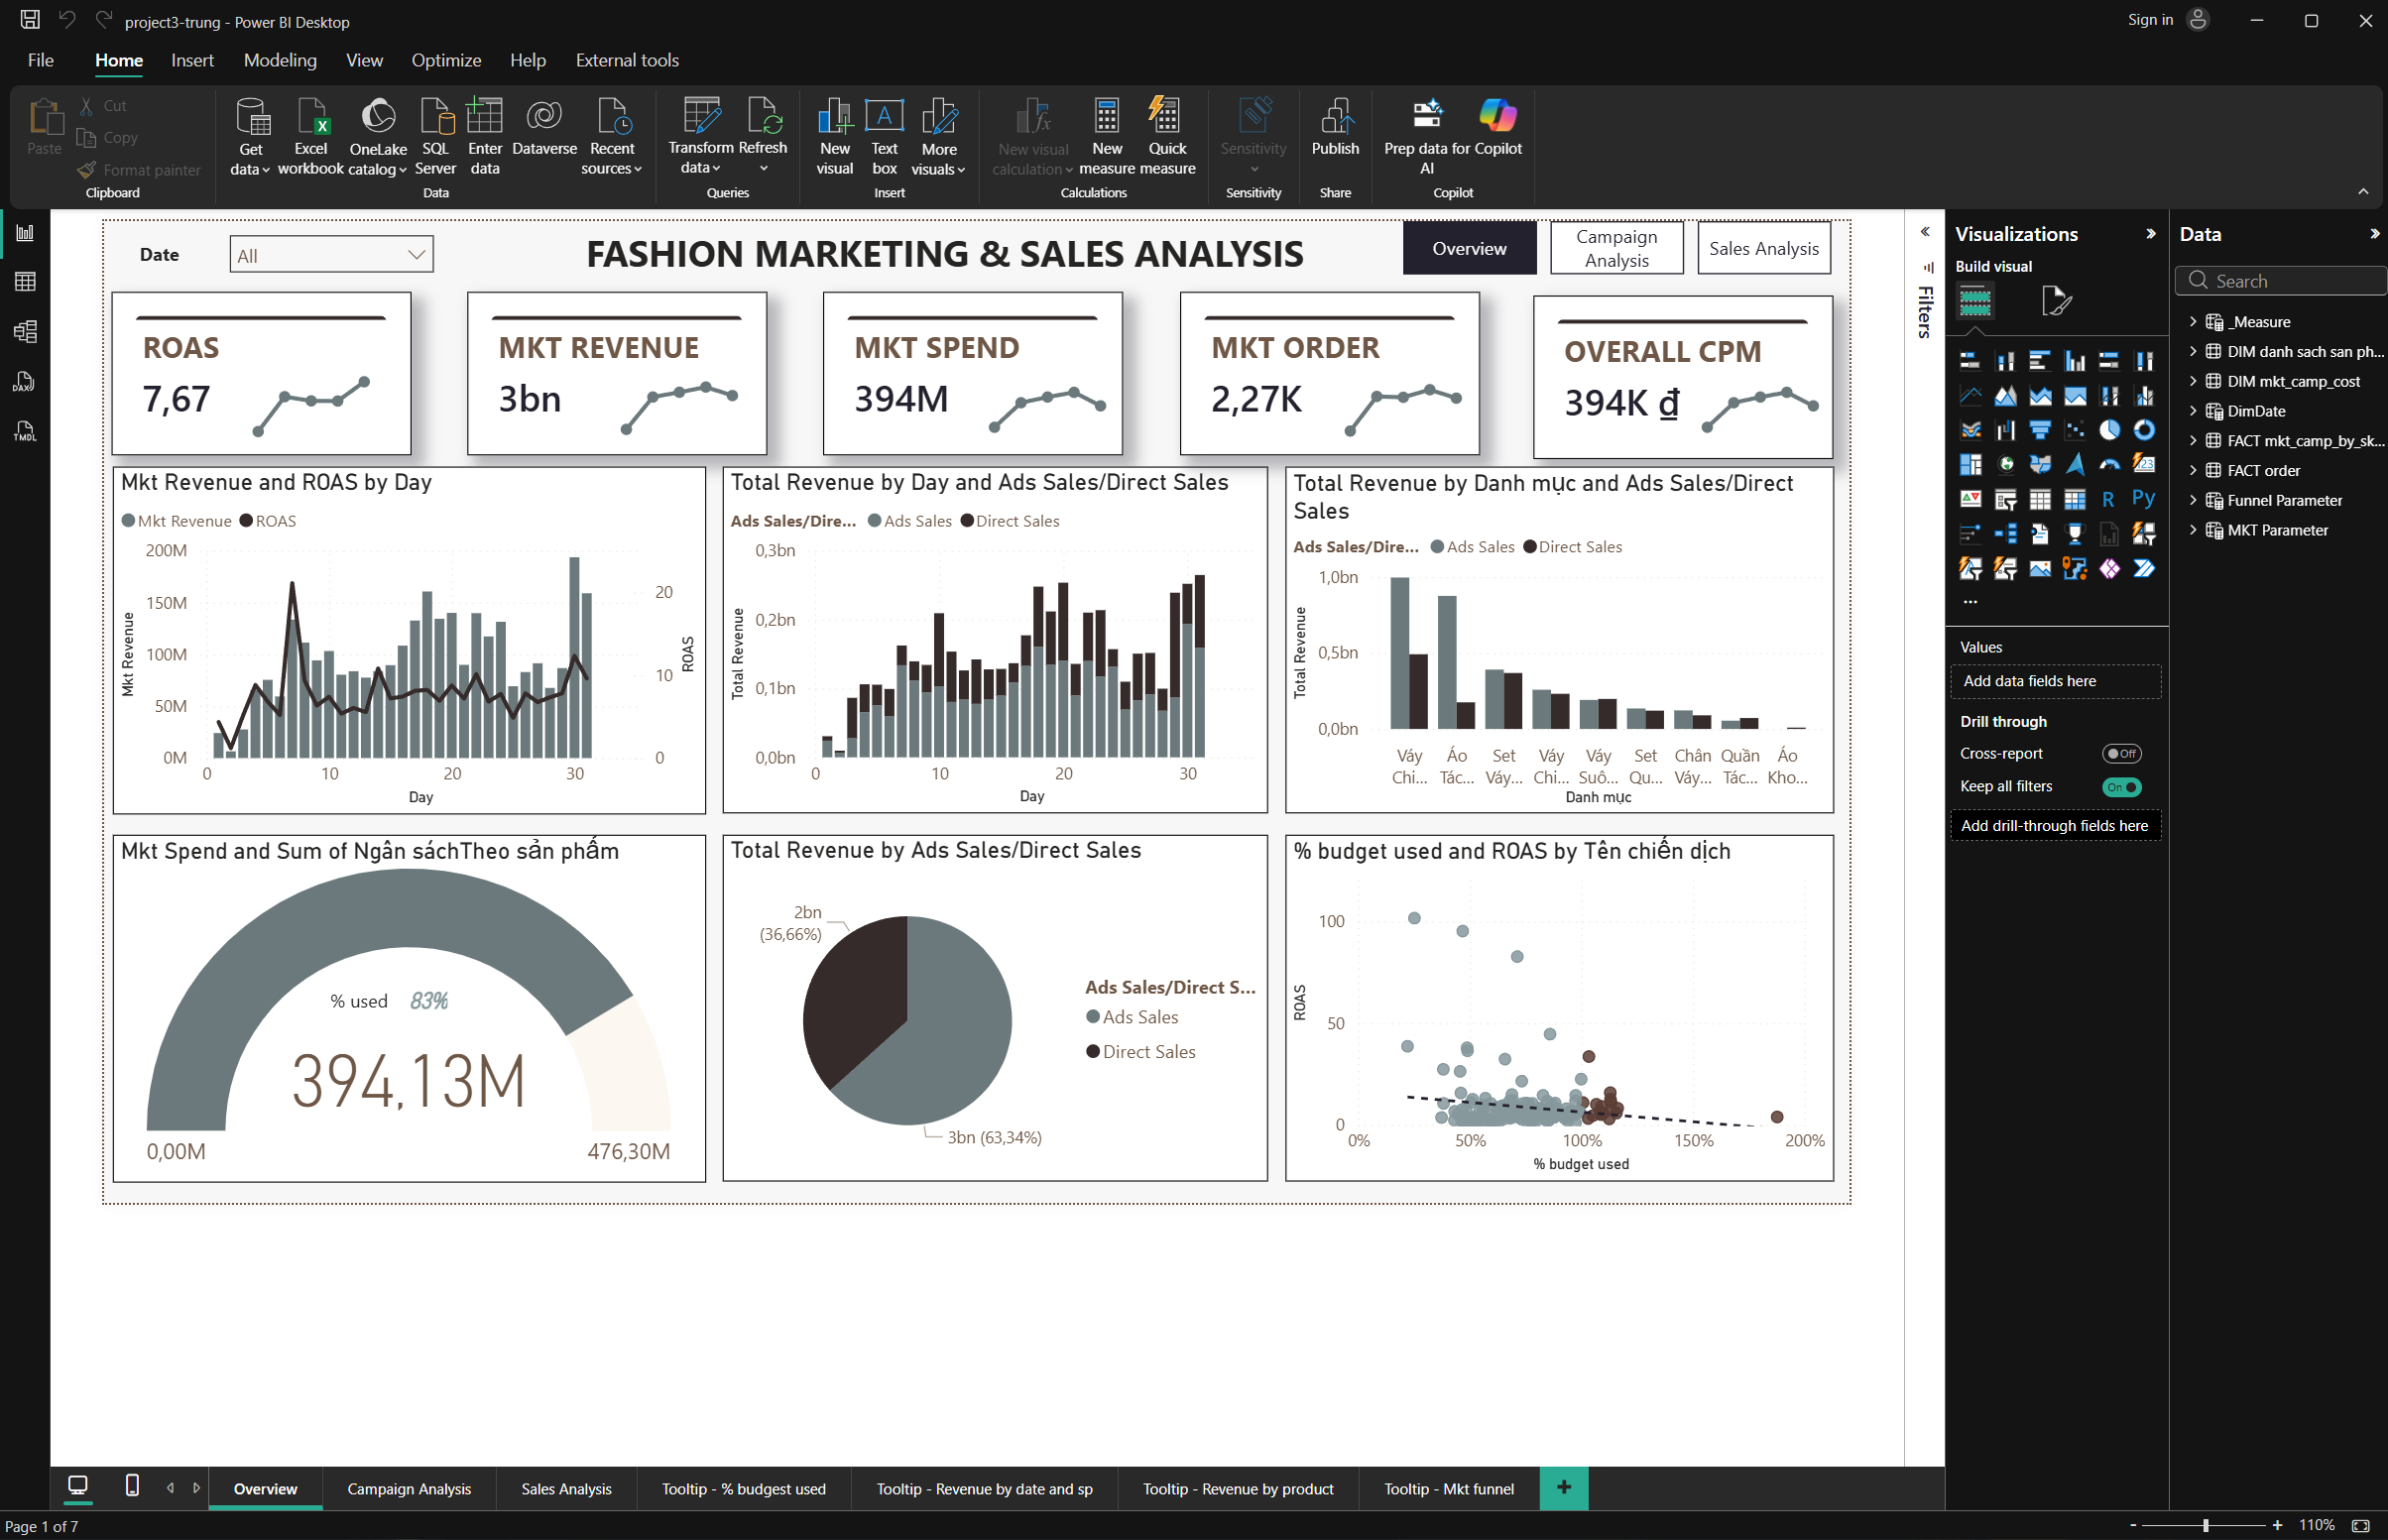

The dashboard page shown, as its layout file describes it:
{"tool":"powerbi","page":{"name":"Overview","canvas":[1280,720],"ordinal":0},"visuals":[{"type":"cardVisual","fields":{"Data":["_Measure.Total Revenue"]},"box":[266.3,52.3,220,120],"z":0},{"type":"cardVisual","fields":{"Data":["_Measure.Total Spend"]},"box":[527.6,52.3,220,120],"z":1000},{"type":"cardVisual","fields":{"Data":["_Measure.ROAS"]},"box":[5.1,52.3,220,120],"z":2000},{"type":"lineStackedColumnComboChart","fields":{"Y":["_Measure.Mkt Revenue"],"Y2":["_Measure.ROAS"],"Category":["DimDate.Date/Week Hierarchy.Day","DimDate.Date/Week Hierarchy.Week Number"]},"box":[6.2,180,435,255],"z":3000},{"type":"pieChart","fields":{"Y":["_Measure.Total Revenue"],"Category":["FACT order.Ads Sales/Direct Sales"]},"box":[453.3,450,400,254.4],"z":4000},{"type":"lineStackedColumnComboChart","fields":{"Y":["_Measure.Total Revenue"],"Category":["DimDate.Date/Week Hierarchy.Day","DimDate.Date/Week Hierarchy.Week Number"],"Series":["FACT order.Ads Sales/Direct Sales"]},"box":[453.3,180,400,254.4],"z":5000},{"type":"gauge","fields":{"Y":["_Measure.Mkt Spend"],"MaxValue":["Sum(FACT mkt_camp_by_sku_cost.Ngân sáchTheo sản phẩm)"]},"box":[6.2,450,435,255],"z":5000,"group":"g1"},{"type":"cardVisual","fields":{"Data":["_Measure.Mkt Order"]},"box":[788.8,52.3,220,120],"z":6000},{"type":"cardVisual","fields":{"Data":["_Measure.Total CPM"]},"box":[1047.8,54.4,220,120],"z":7000},{"type":"textbox","box":[348,0,586,52],"z":8000},{"type":"clusteredColumnChart","fields":{"Category":["DIM danh sach san pham.Danh mục","DIM danh sach san pham.Tên sản phẩm"],"Y":["_Measure.Total Revenue"],"Series":["FACT order.Ads Sales/Direct Sales"]},"box":[866.3,180.2,402.3,254.7],"z":9000},{"type":"scatterChart","fields":{"X":["_Measure.% budget used"],"Y":["_Measure.ROAS"],"Category":["DIM mkt_camp_cost.Tên chiến dịch"]},"box":[866,450,402,254],"z":10000},{"type":"group","id":"g1","title":"Group 1","box":[6.2,450,435,255],"z":11000},{"type":"lineChart","fields":{"Y":["_Measure.ROAS"],"Category":["DimDate.Date/Week Hierarchy.Week Number"]},"box":[97.8,100,107.8,64.4],"z":12000},{"type":"cardVisual","fields":{"Data":["_Measure.% budget used"]},"box":[185.3,544.9,105,65],"z":12501,"group":"g1"},{"type":"lineChart","fields":{"Category":["DimDate.Date/Week Hierarchy.Week Number"],"Y":["_Measure.Mkt Revenue"]},"box":[367.8,100,107.8,64.4],"z":13000},{"type":"lineChart","fields":{"Category":["DimDate.Date/Week Hierarchy.Week Number"],"Y":["_Measure.Mkt Spend"]},"box":[637.8,100,107.8,64.4],"z":14000},{"type":"lineChart","fields":{"Category":["DimDate.Date/Week Hierarchy.Week Number"],"Y":["_Measure.Mkt Order"]},"box":[898.9,100,107.8,64.4],"z":15000},{"type":"lineChart","fields":{"Category":["DimDate.Date/Week Hierarchy.Week Number"],"Y":["_Measure.Total CPM"]},"box":[1161.1,100,107.8,64.4],"z":16000},{"type":"pageNavigator","box":[953,0,316,39],"z":17000},{"type":"slicer","fields":{"Values":["DimDate.Date/Week Hierarchy.Day"]},"box":[82.1,0,170,50],"z":18000},{"type":"textbox","box":[21.2,10,76.2,28.8],"z":19000},{"type":"textbox","box":[160.3,557.4,60,45],"z":19001,"group":"g1"}]}

Visuals, with their boxes on the page's 1280x720 design canvas (x1, y1, x2, y2). These are canvas units, not pixel positions in the 2388x1540 screenshot, which may show the page scaled, cropped or inside an application window:
cardVisual - _Measure.Total Revenue: bbox(266, 52, 486, 172)
cardVisual - _Measure.Total Spend: bbox(528, 52, 748, 172)
cardVisual - _Measure.ROAS: bbox(5, 52, 225, 172)
lineStackedColumnComboChart - _Measure.Mkt Revenue x _Measure.ROAS: bbox(6, 180, 441, 435)
pieChart - _Measure.Total Revenue x FACT order.Ads Sales/Direct Sales: bbox(453, 450, 853, 704)
lineStackedColumnComboChart - _Measure.Total Revenue x DimDate.Date/Week Hierarchy.Day: bbox(453, 180, 853, 434)
gauge - _Measure.Mkt Spend x Sum(FACT mkt_camp_by_sku_cost.Ngân sáchTheo sản phẩm): bbox(6, 450, 441, 705)
cardVisual - _Measure.Mkt Order: bbox(789, 52, 1009, 172)
cardVisual - _Measure.Total CPM: bbox(1048, 54, 1268, 174)
textbox: bbox(348, 0, 934, 52)
clusteredColumnChart - DIM danh sach san pham.Danh mục x DIM danh sach san pham.Tên sản phẩm: bbox(866, 180, 1269, 435)
scatterChart - _Measure.% budget used x _Measure.ROAS: bbox(866, 450, 1268, 704)
"Group 1" group: bbox(6, 450, 441, 705)
lineChart - _Measure.ROAS x DimDate.Date/Week Hierarchy.Week Number: bbox(98, 100, 206, 164)
cardVisual - _Measure.% budget used: bbox(185, 545, 290, 610)
lineChart - DimDate.Date/Week Hierarchy.Week Number x _Measure.Mkt Revenue: bbox(368, 100, 476, 164)
lineChart - DimDate.Date/Week Hierarchy.Week Number x _Measure.Mkt Spend: bbox(638, 100, 746, 164)
lineChart - DimDate.Date/Week Hierarchy.Week Number x _Measure.Mkt Order: bbox(899, 100, 1007, 164)
lineChart - DimDate.Date/Week Hierarchy.Week Number x _Measure.Total CPM: bbox(1161, 100, 1269, 164)
pageNavigator: bbox(953, 0, 1269, 39)
slicer - DimDate.Date/Week Hierarchy.Day: bbox(82, 0, 252, 50)
textbox: bbox(21, 10, 97, 39)
textbox: bbox(160, 557, 220, 602)
